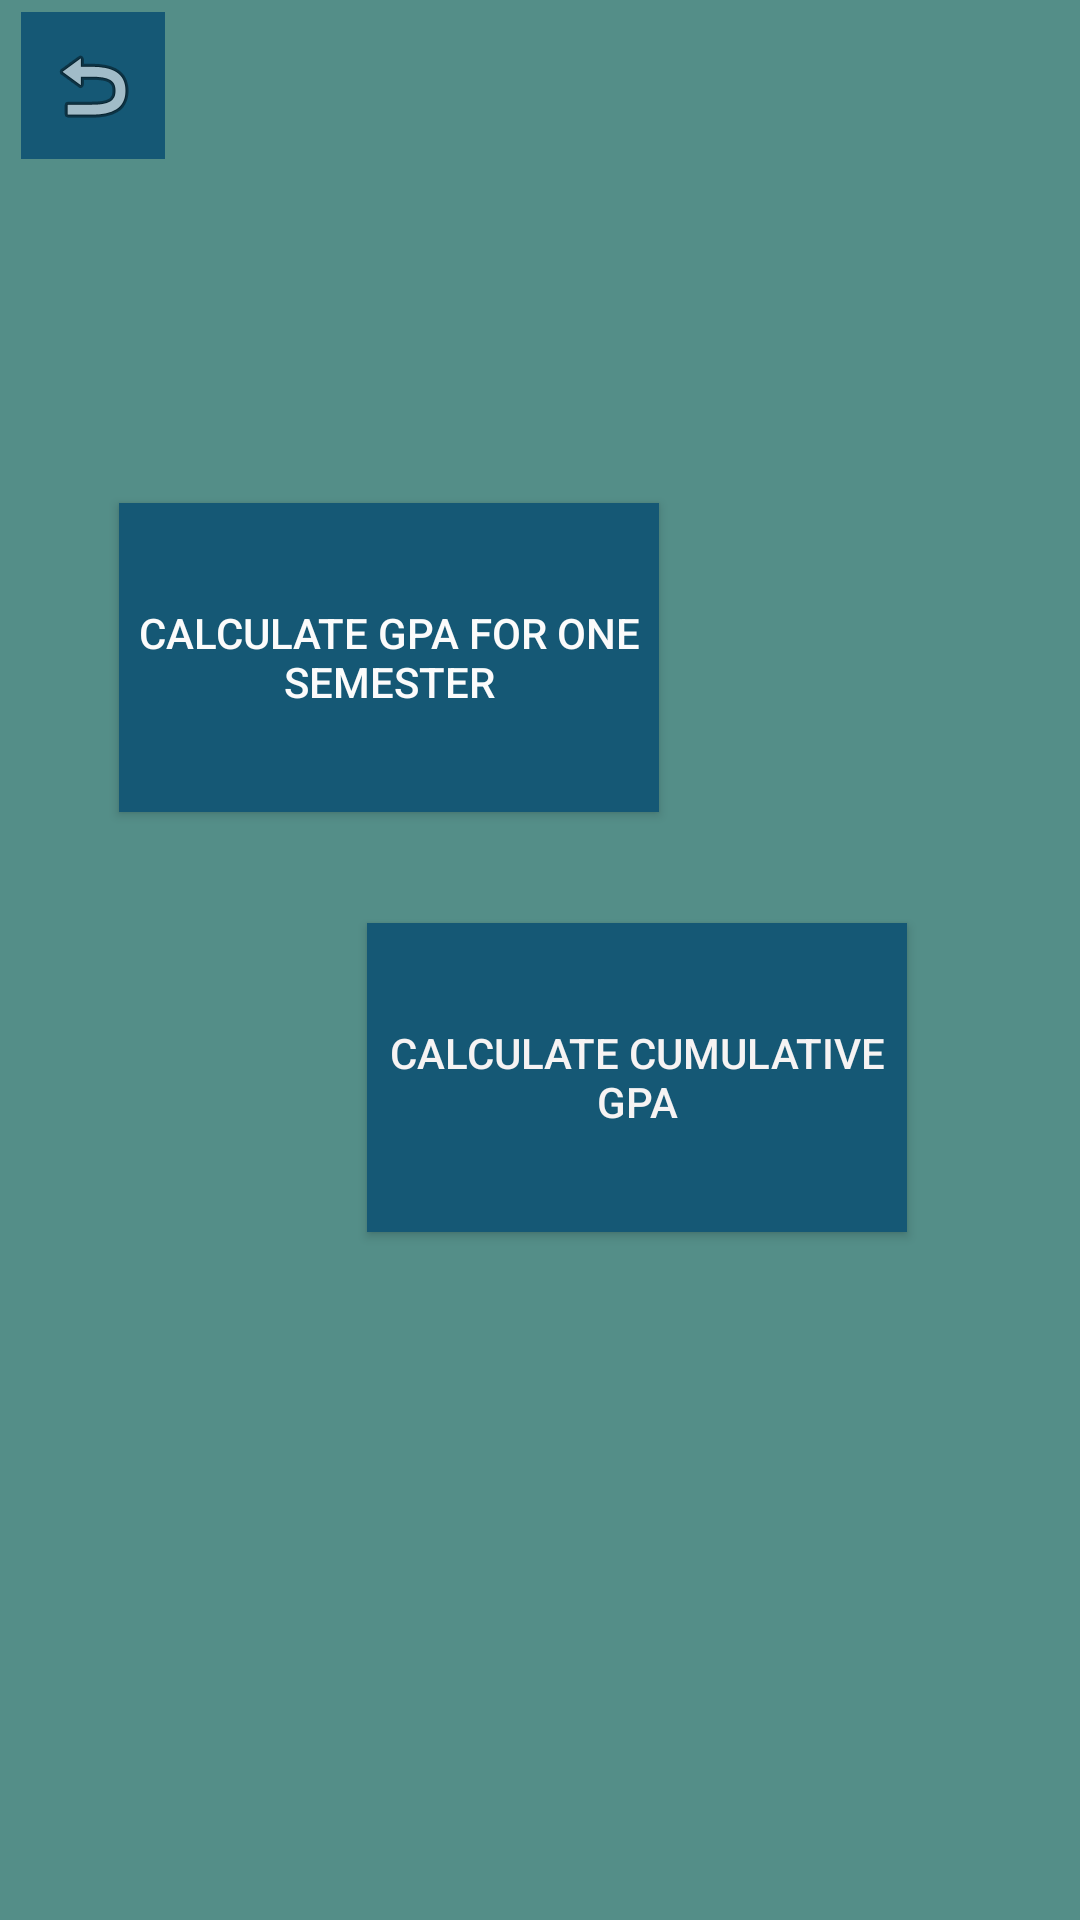

Screen size 1080px x 1920px. Icon name, then its box in pixels as (x1, y1, x2, y2):
revert: (21, 12, 165, 159)
